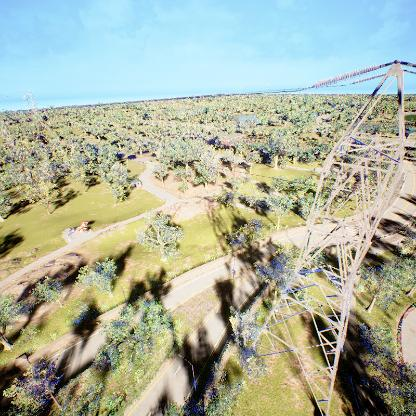tower: (244, 58, 413, 416)
